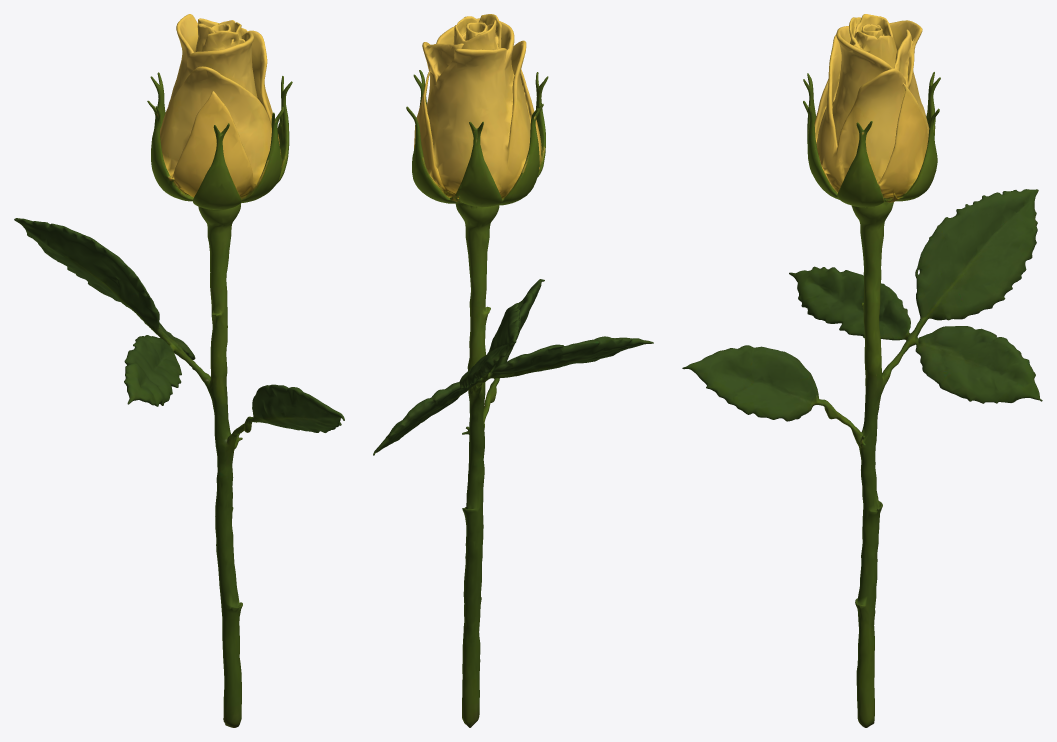
The model's file is YellowRose.glb.
3 views of the same model, side by side, from view 1: azimuth 30°, elevation 25°; view 2: azimuth 150°, elevation 25°; view 3: azimuth 270°, elevation 25° (orthographic).
Visible parts, largest first — view 1: tripo_node_4ea5bd41-6db2-41bf-bce9-83857ccb6344; view 2: tripo_node_4ea5bd41-6db2-41bf-bce9-83857ccb6344; view 3: tripo_node_4ea5bd41-6db2-41bf-bce9-83857ccb6344.
Boxes of the visible parts, x1,y1,x2,y2 form: tripo_node_4ea5bd41-6db2-41bf-bce9-83857ccb6344: [14, 14, 344, 727]; tripo_node_4ea5bd41-6db2-41bf-bce9-83857ccb6344: [373, 14, 653, 727]; tripo_node_4ea5bd41-6db2-41bf-bce9-83857ccb6344: [682, 14, 1042, 727].
Bounding box in the file's own units: 0.2949 × 0.9998 × 0.4661.
Materials: 1 (1 with a texture image).
